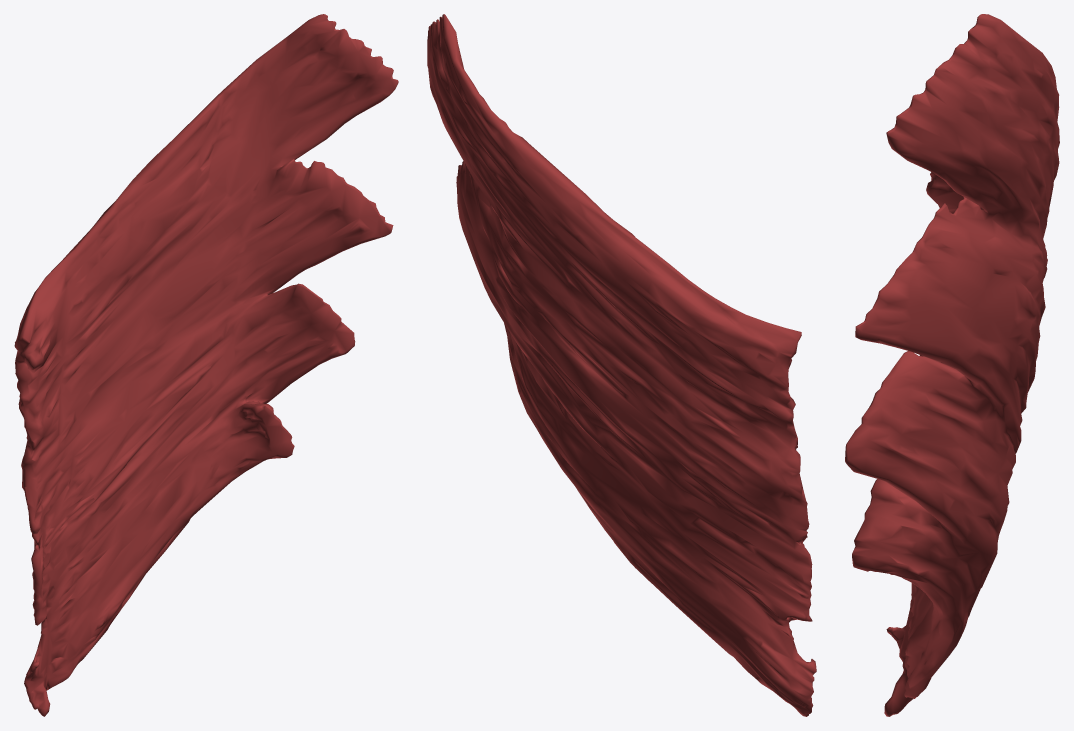
File: serratus-posterior-inferior-muscle-l.glb
3 views of the same model, side by side, from view 1: azimuth 30°, elevation 25°; view 2: azimuth 150°, elevation 25°; view 3: azimuth 270°, elevation 25° (orthographic). The views are drawn at different scales.
Parts seen in each view (by area): view 1: Serratus posterior inferior muscle.l; view 2: Serratus posterior inferior muscle.l; view 3: Serratus posterior inferior muscle.l.
Part boxes in pixels (x1,y1,x2,y2): Serratus posterior inferior muscle.l: (14,14,398,716); Serratus posterior inferior muscle.l: (427,14,816,716); Serratus posterior inferior muscle.l: (845,14,1059,716).
Bounding box in the file's own units: 0.1137 × 0.1786 × 0.0371.
